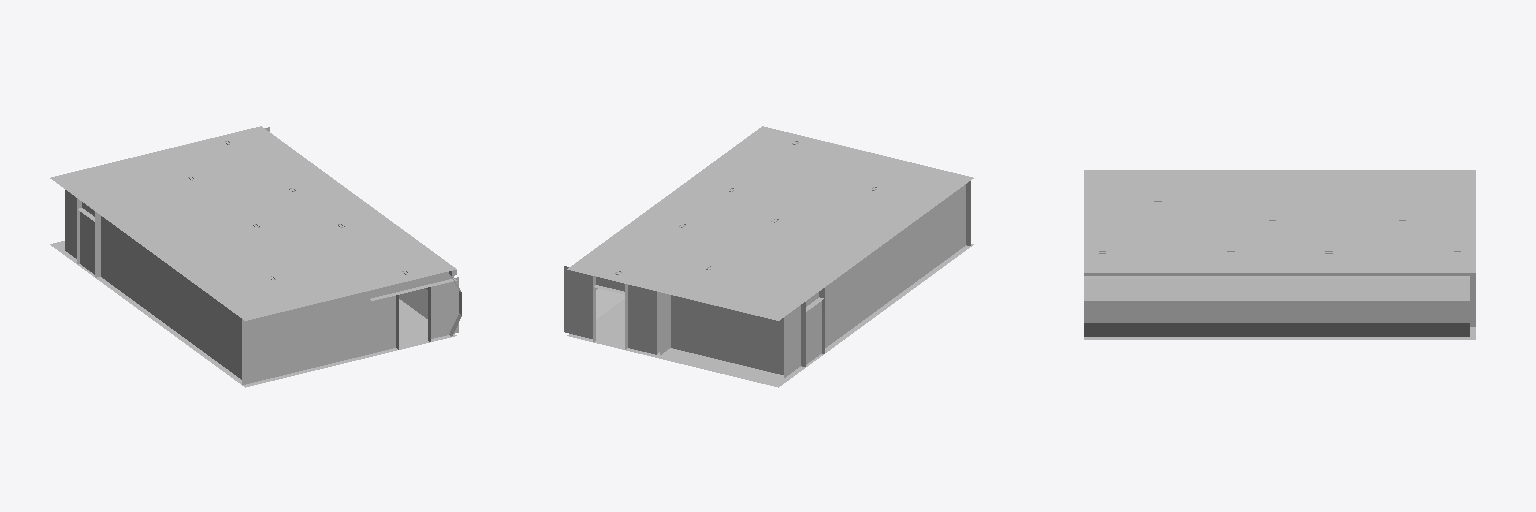
Rendered from RZ_room2_medibay.obj.
3 renders of one model, left to right at view 1: azimuth 30°, elevation 25°; view 2: azimuth 150°, elevation 25°; view 3: azimuth 270°, elevation 25°, orthographic.
Visible parts, largest first — view 1: RZ_room2_medibay; view 2: RZ_room2_medibay; view 3: RZ_room2_medibay.
Part boxes in pixels (x1,y1,x2,y2): RZ_room2_medibay: (50,126,461,387); RZ_room2_medibay: (564,126,973,387); RZ_room2_medibay: (1084,170,1475,339).
Bounding box in the file's own units: 13.12 × 3.87 × 20.49.